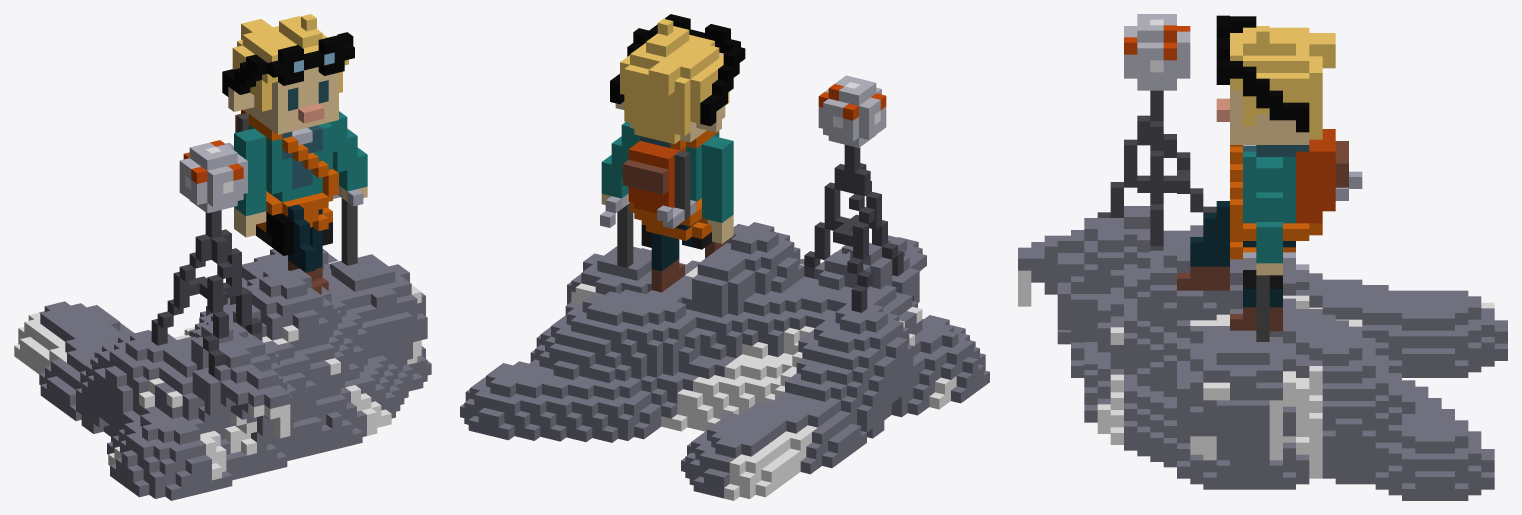
The model's file is MartinCave.obj.
3 renders of one model, left to right at view 1: azimuth 30°, elevation 25°; view 2: azimuth 150°, elevation 25°; view 3: azimuth 270°, elevation 25°, orthographic. The views are drawn at different scales.
Bounding box in the file's own units: 36 × 34 × 37.
1 material, 1 textured.
